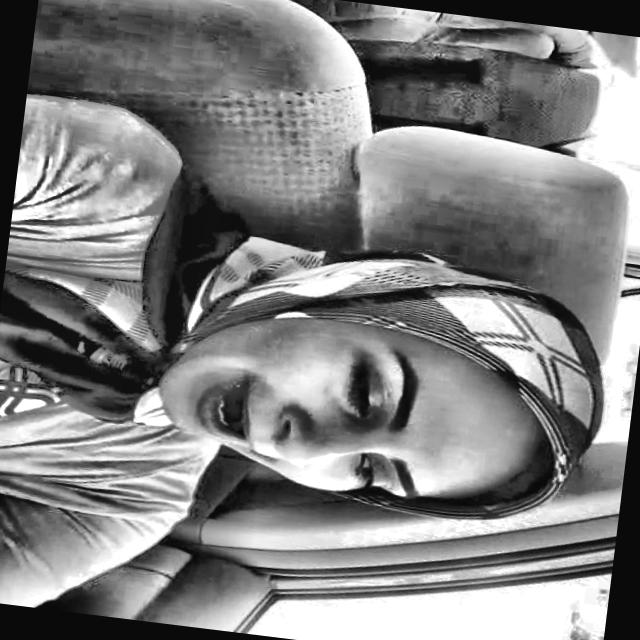open_mouth: (186, 365, 267, 463)
